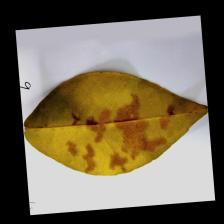black spot: (54, 97, 176, 172)
